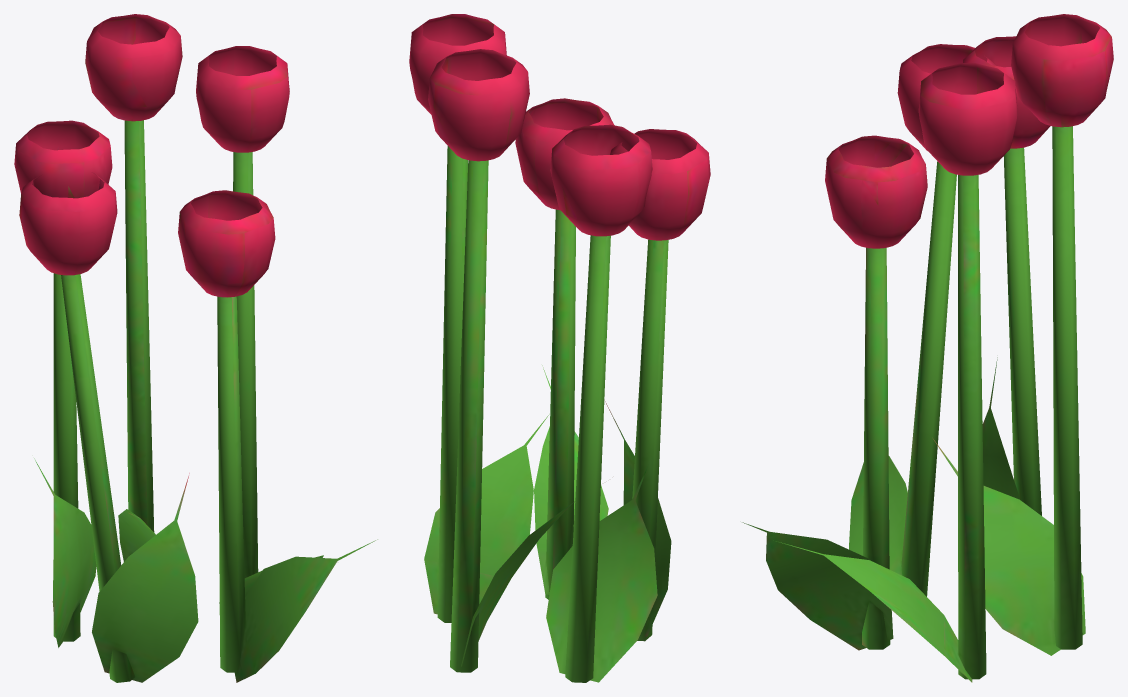
The model's file is crop_tulip.glb.
The picture shows the model from 3 angles, left to right: view 1: azimuth 30°, elevation 25°; view 2: azimuth 150°, elevation 25°; view 3: azimuth 270°, elevation 25°; orthographic projection. The views are drawn at different scales.
Parts seen in each view (by area): view 1: crop_tulip, fruit; view 2: crop_tulip, fruit; view 3: crop_tulip, fruit.
Boxes of the visible parts, bbox=[...] form: crop_tulip: bbox=[34, 120, 377, 682]; fruit: bbox=[14, 14, 289, 297]; crop_tulip: bbox=[424, 146, 671, 682]; fruit: bbox=[409, 14, 710, 240]; crop_tulip: bbox=[742, 126, 1085, 682]; fruit: bbox=[825, 14, 1113, 248].
Size of the model in its own units: 0.1652 by 0.3365 by 0.1852.
Materials: 1 (1 with a texture image).
